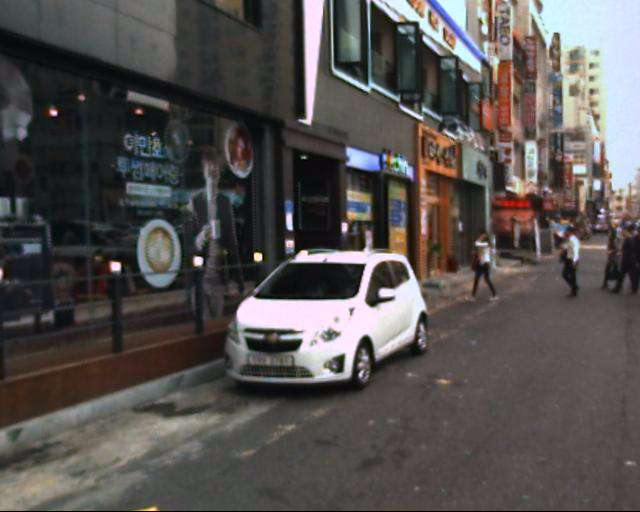person: (602, 210, 640, 302), (478, 224, 507, 304), (569, 216, 593, 304)
